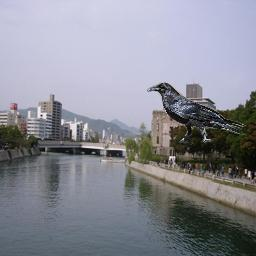Crow: (147, 82, 249, 144)
